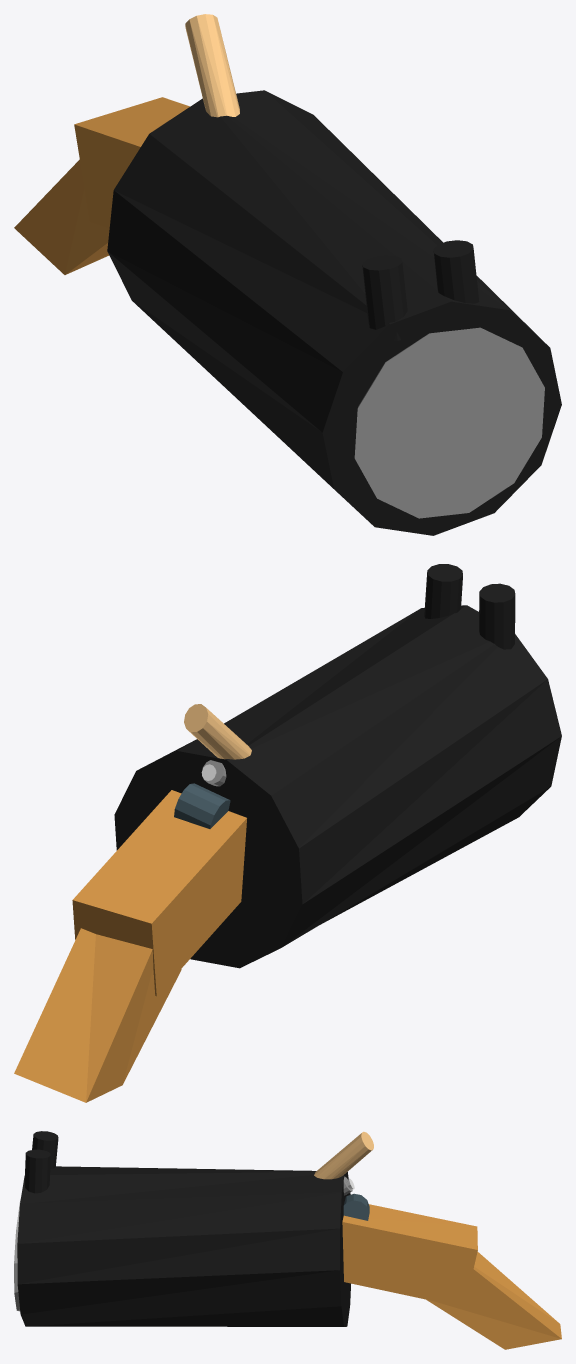
Rendered from BGun_Rook.fbx.
3 views of the same model, one above another, from view 1: azimuth 30°, elevation 25°; view 2: azimuth 150°, elevation 25°; view 3: azimuth 270°, elevation 25° (orthographic). The views are drawn at different scales.
Parts seen in each view (by area): view 1: mesh_411386642, mesh_1784989416, mesh_1959327082, mesh_1996176658, mesh_251090027, mesh_47152839, mesh_1454598962; view 2: mesh_411386642, mesh_1959327082, mesh_1996176658, mesh_47152839, mesh_251090027, mesh_1454598962, mesh_1775997305; view 3: mesh_411386642, mesh_1959327082, mesh_1996176658, mesh_251090027, mesh_1454598962, mesh_47152839, mesh_1775997305, mesh_1784989416.
Part boxes in pixels (box(x1,y1,x2,y2)): mesh_411386642: box(107, 90, 561, 535); mesh_1784989416: box(354, 327, 544, 518); mesh_1959327082: box(74, 97, 189, 227); mesh_1996176658: box(14, 159, 109, 274); mesh_251090027: box(185, 14, 239, 117); mesh_47152839: box(362, 255, 407, 341); mesh_1454598962: box(433, 240, 479, 303); mesh_411386642: box(114, 605, 561, 968); mesh_1959327082: box(72, 790, 246, 996); mesh_1996176658: box(14, 928, 181, 1102); mesh_47152839: box(479, 583, 515, 649); mesh_251090027: box(184, 704, 251, 759); mesh_1454598962: box(424, 564, 462, 618); mesh_1775997305: box(174, 783, 230, 828); mesh_411386642: box(17, 1166, 350, 1326); mesh_1959327082: box(342, 1204, 477, 1307); mesh_1996176658: box(426, 1252, 561, 1349); mesh_251090027: box(314, 1131, 373, 1179); mesh_1454598962: box(24, 1149, 50, 1193); mesh_47152839: box(32, 1131, 58, 1168); mesh_1775997305: box(343, 1193, 369, 1220); mesh_1784989416: box(14, 1200, 20, 1311).
Bounding box in the file's own units: 31.44 × 39.21 × 92.89.
